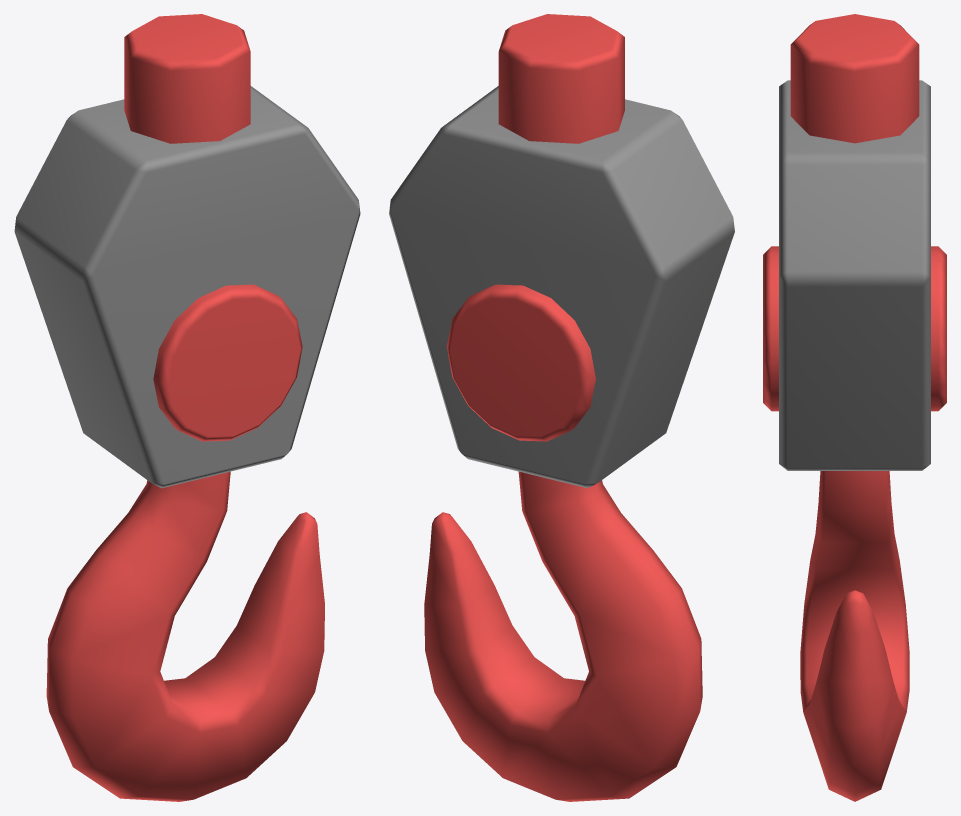
File: hook_1_001.fbx
The picture shows the model from 3 angles, left to right: view 1: azimuth 30°, elevation 25°; view 2: azimuth 150°, elevation 25°; view 3: azimuth 270°, elevation 25°; orthographic projection.
Parts seen in each view (by area): view 1: hook_1_001; view 2: hook_1_001; view 3: hook_1_001.
Part boxes in pixels (x1,y1,x2,y2): hook_1_001: (14,14,360,801); hook_1_001: (389,14,734,801); hook_1_001: (763,14,946,801).
Bounding box in the file's own units: 307 × 179 × 807.
